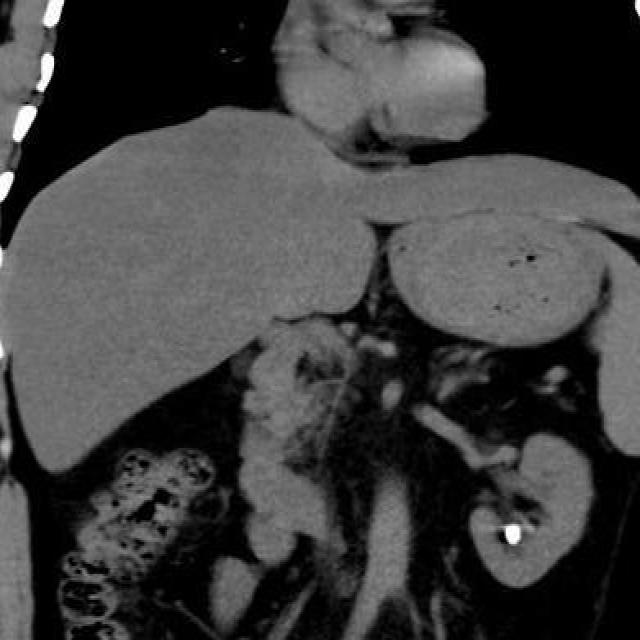Tas_Var: (503, 522, 525, 548)
